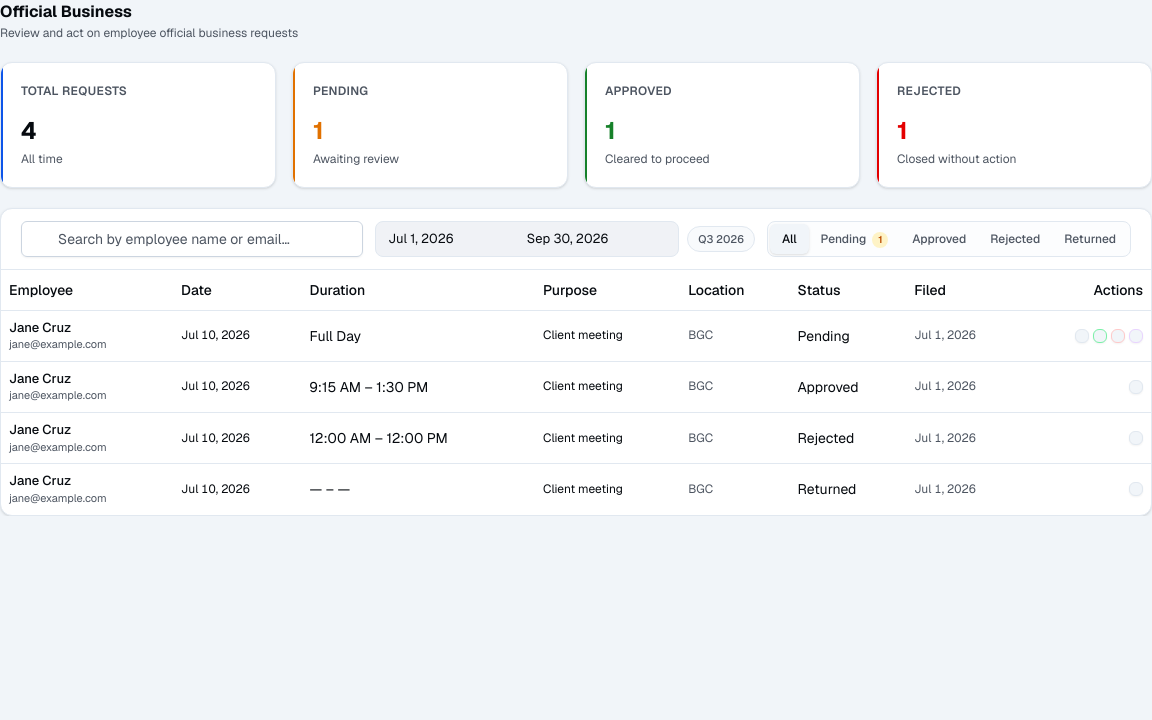
ObManagementSection — review modal (view mode) › view mode shows details, notes and the reviewer remark with name + date
Click the button with test id "ob-view": (1136,387) left=1129, top=380, right=1143, bottom=394
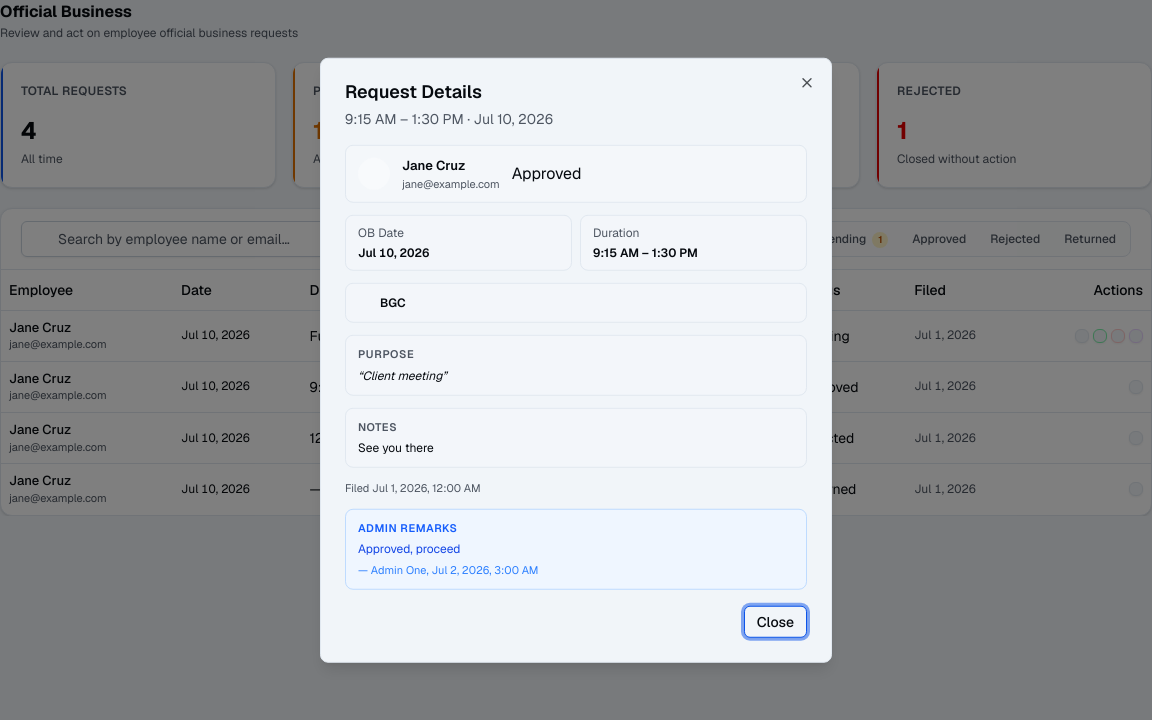
Expected: the heading "Request Details" is shown, left=345, top=80, right=482, bottom=103
Expected: the text "See you there" is shown, left=358, top=440, right=434, bottom=456
Expected: the text "Approved, proceed" is shown, left=358, top=541, right=460, bottom=557
Click the button named "Close": (807,83) left=799, top=75, right=815, bottom=91
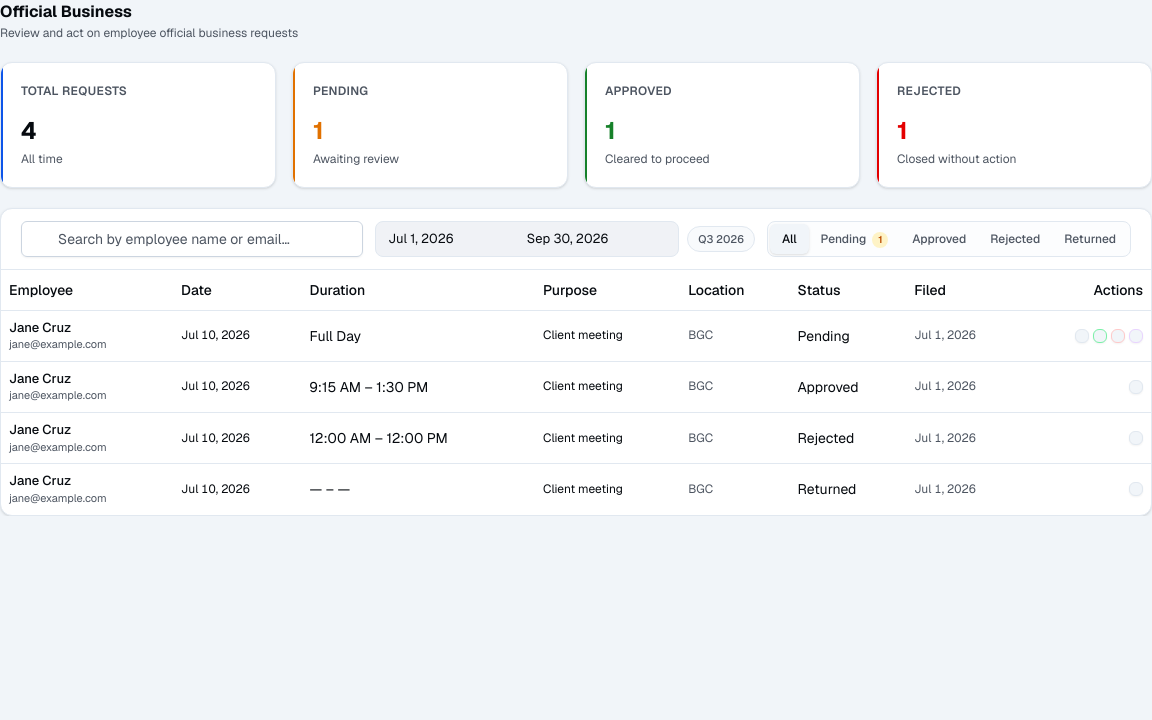
Expected: the dialog is gone
